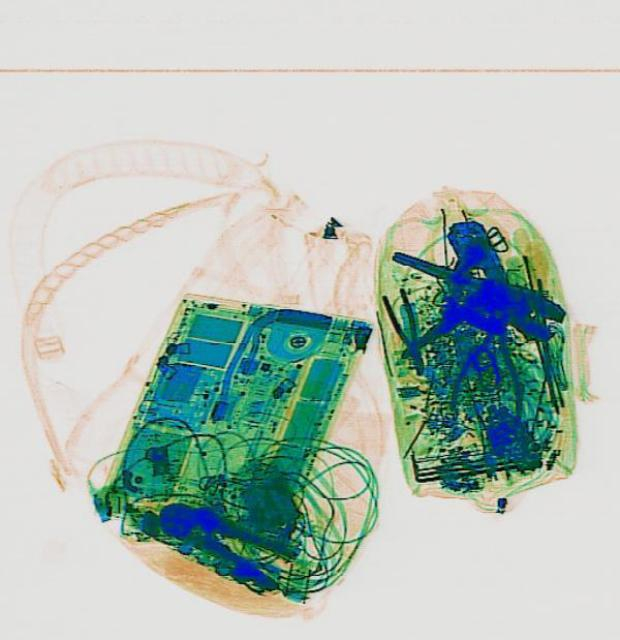Pliers: (370, 251, 569, 381), (145, 484, 300, 596), (419, 213, 518, 344), (445, 292, 532, 422), (377, 284, 431, 378)
